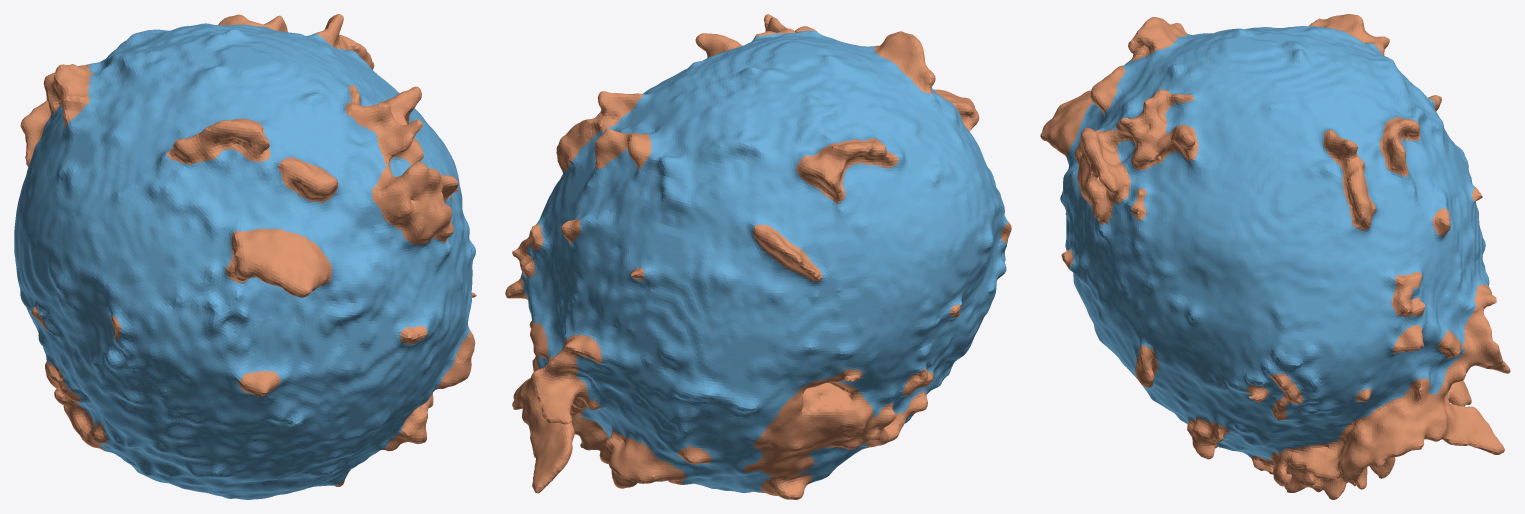
3 renders of one model, left to right at view 1: azimuth 30°, elevation 25°; view 2: azimuth 150°, elevation 25°; view 3: azimuth 270°, elevation 25°, orthographic. The views are drawn at different scales.
Size of the model in its own units: 127 by 126 by 135.
